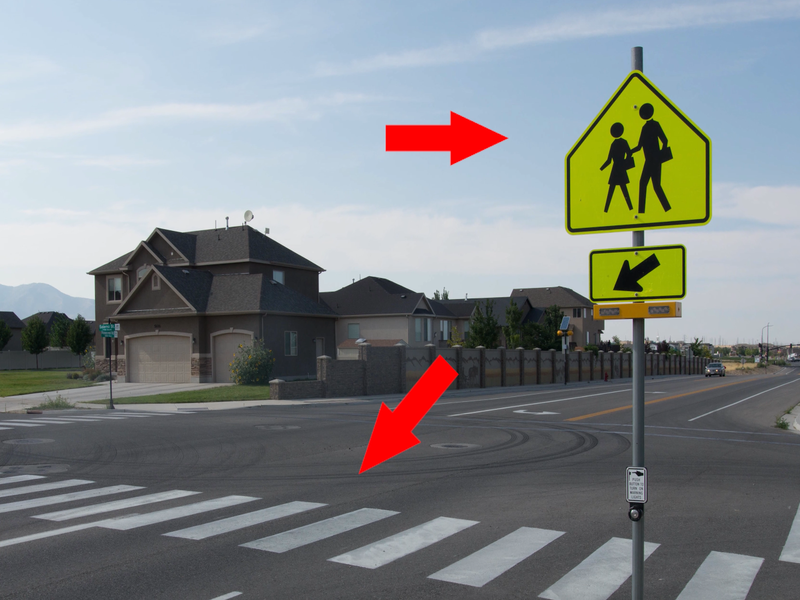slow: (552, 72, 715, 229)
